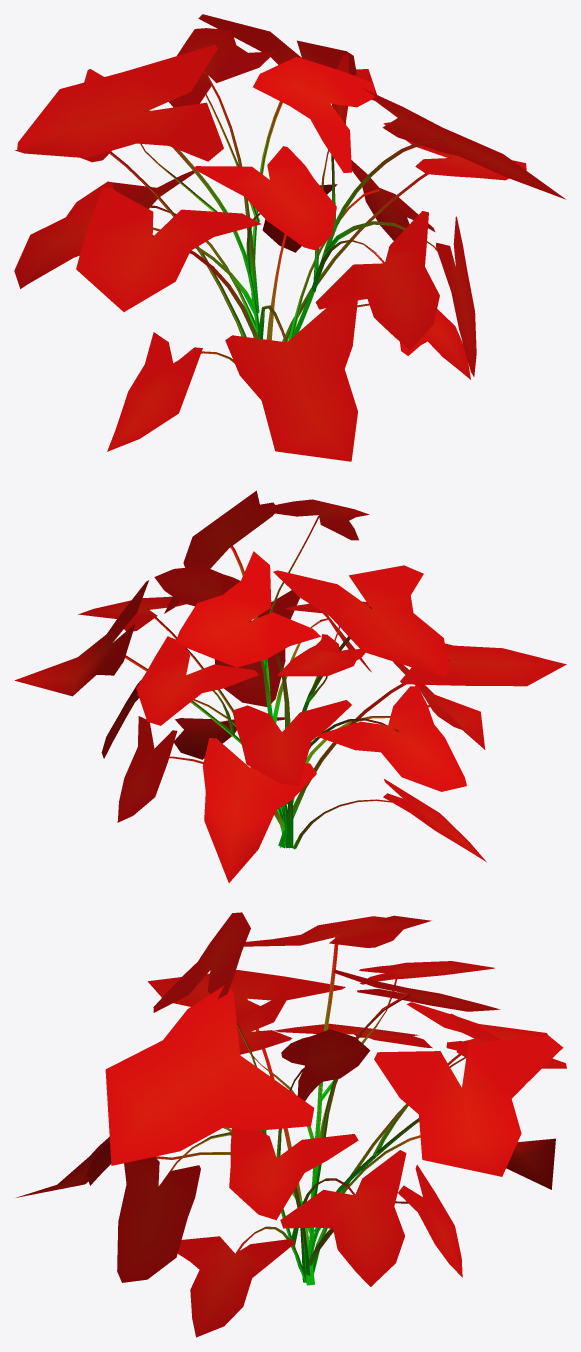
The model's file is Var5_LOD2.fbx.
The picture shows the model from 3 angles, top to bottom: view 1: azimuth 30°, elevation 25°; view 2: azimuth 150°, elevation 25°; view 3: azimuth 270°, elevation 25°; orthographic projection. The views are drawn at different scales.
Visible parts, largest first — view 1: _c569_Var5_LOD2; view 2: _c569_Var5_LOD2; view 3: _c569_Var5_LOD2.
Part boxes in pixels (left/top/right/bottom): _c569_Var5_LOD2: left=14, top=14, right=565, bottom=461; _c569_Var5_LOD2: left=14, top=490, right=566, bottom=882; _c569_Var5_LOD2: left=16, top=912, right=566, bottom=1337.
Bounding box in the file's own units: 77.45 × 56.39 × 79.39.
